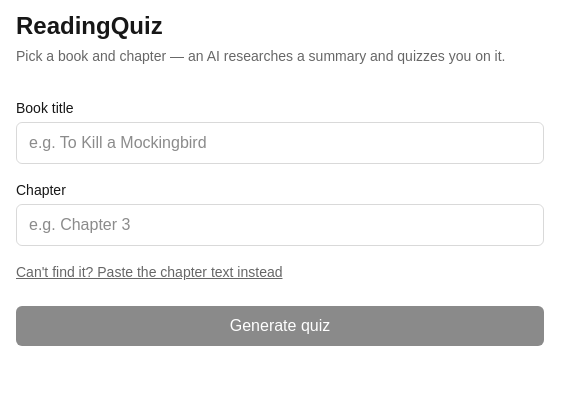
Test case: Page › shows a network-error message when fetch itself rejects
The width and height of the screenshot is (561, 397).
Type "Dune" into the field labelled "Book title".
click(280, 143); type("Dune")  # box [16,122,544,164]
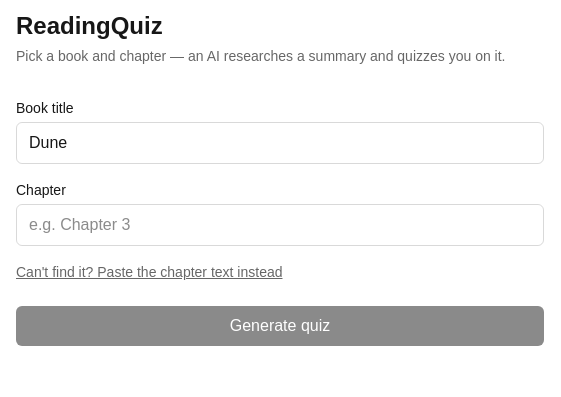
Type "Chapter 1" into the field labelled "Chapter".
click(280, 225); type("Chapter 1")  # box [16,204,544,246]
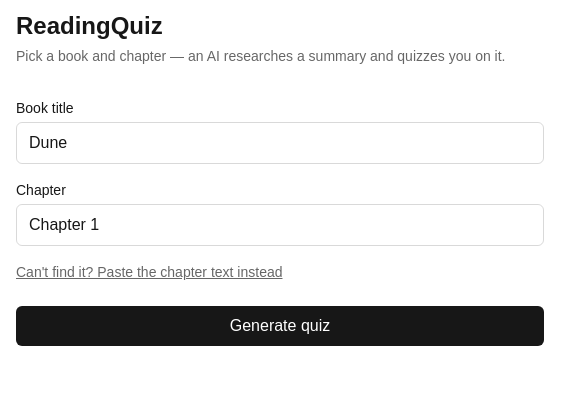
Click the button "Generate quiz".
click(280, 326)  # box [16,306,544,346]
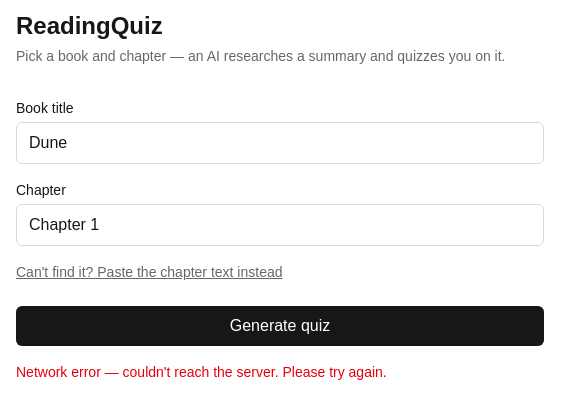
Now the text "Network error — couldn't reach the server. Please try again." is shown, box [16,364,387,380]
